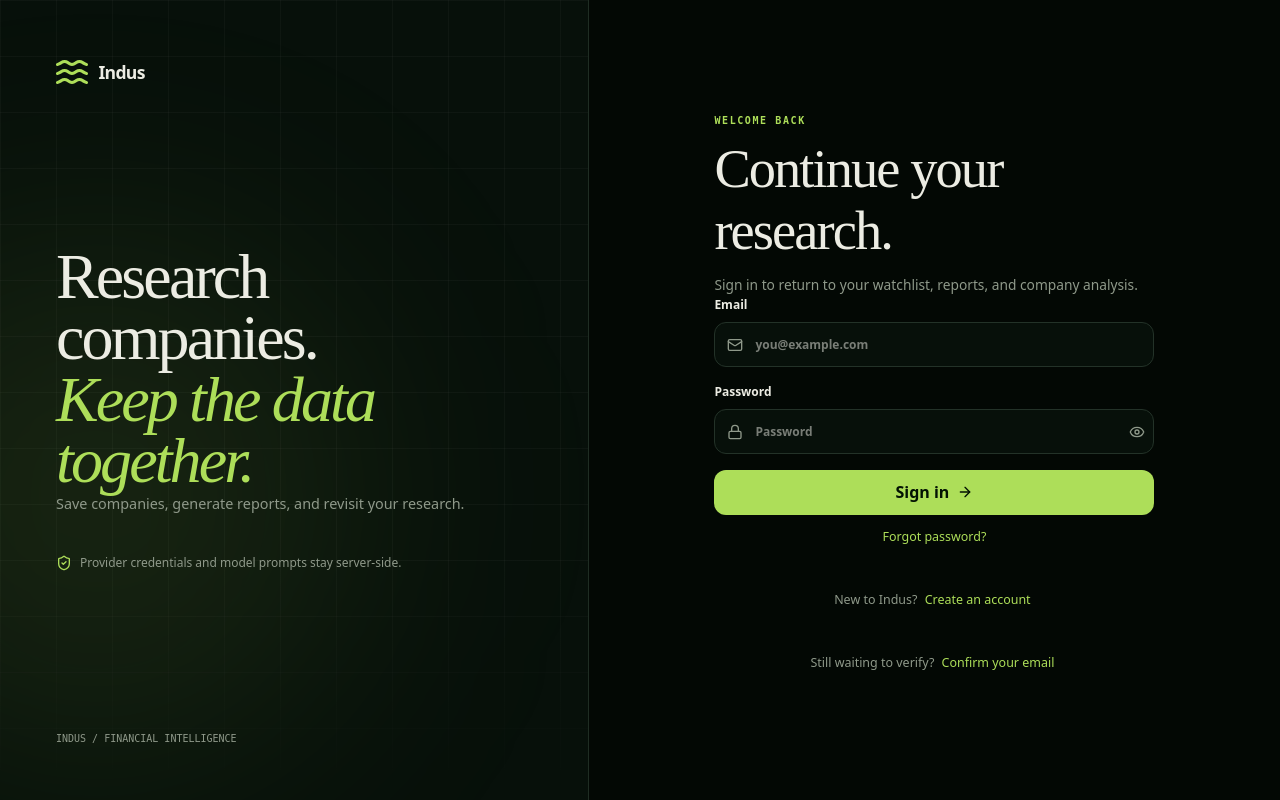
Scenario: application routing › does not render an unexpected provider error on the sign-in surface
The width and height of the screenshot is (1280, 800).
Type "user@example.test" into the field labelled "Email" at (934, 345), box [714, 322, 1154, 367]
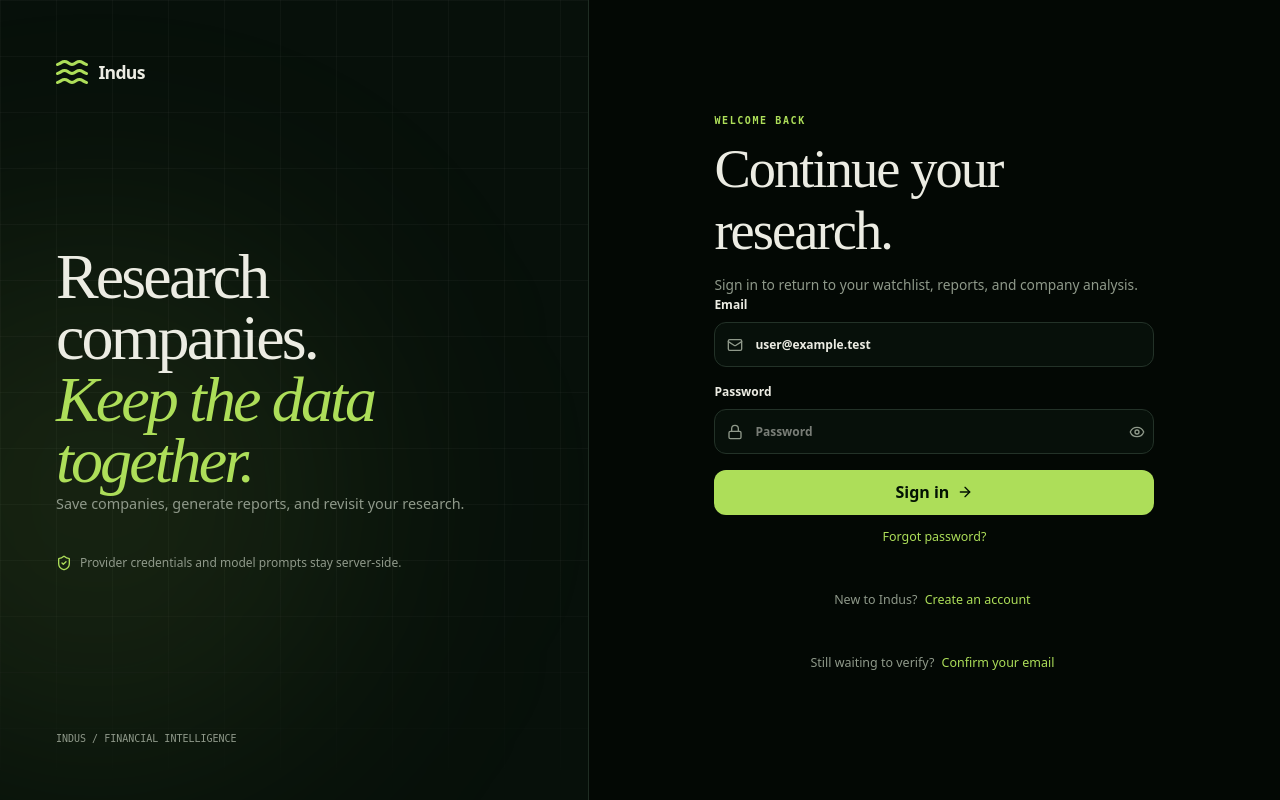
Type "Password123!Secure" into the password field labelled "Password" at (934, 432), box [714, 409, 1154, 454]
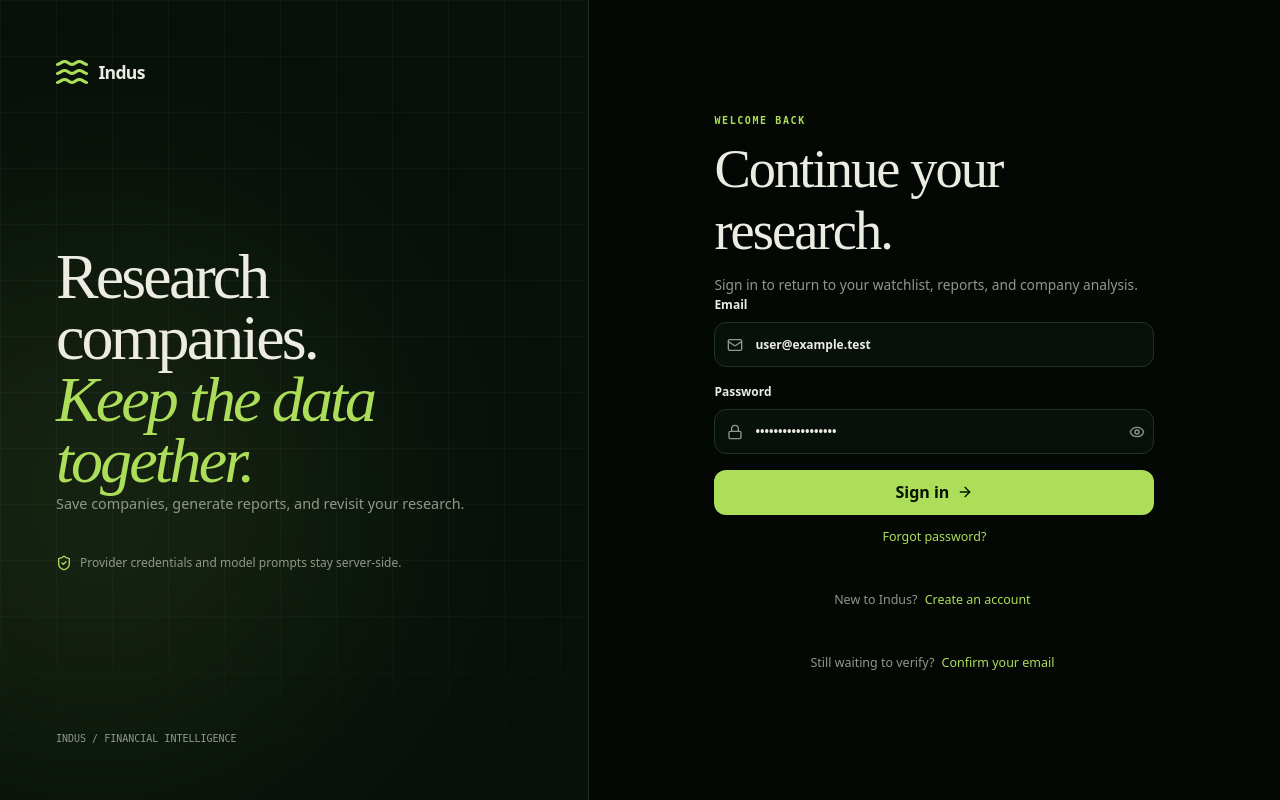
Click the button "Sign in" at (934, 492), box [714, 470, 1154, 515]
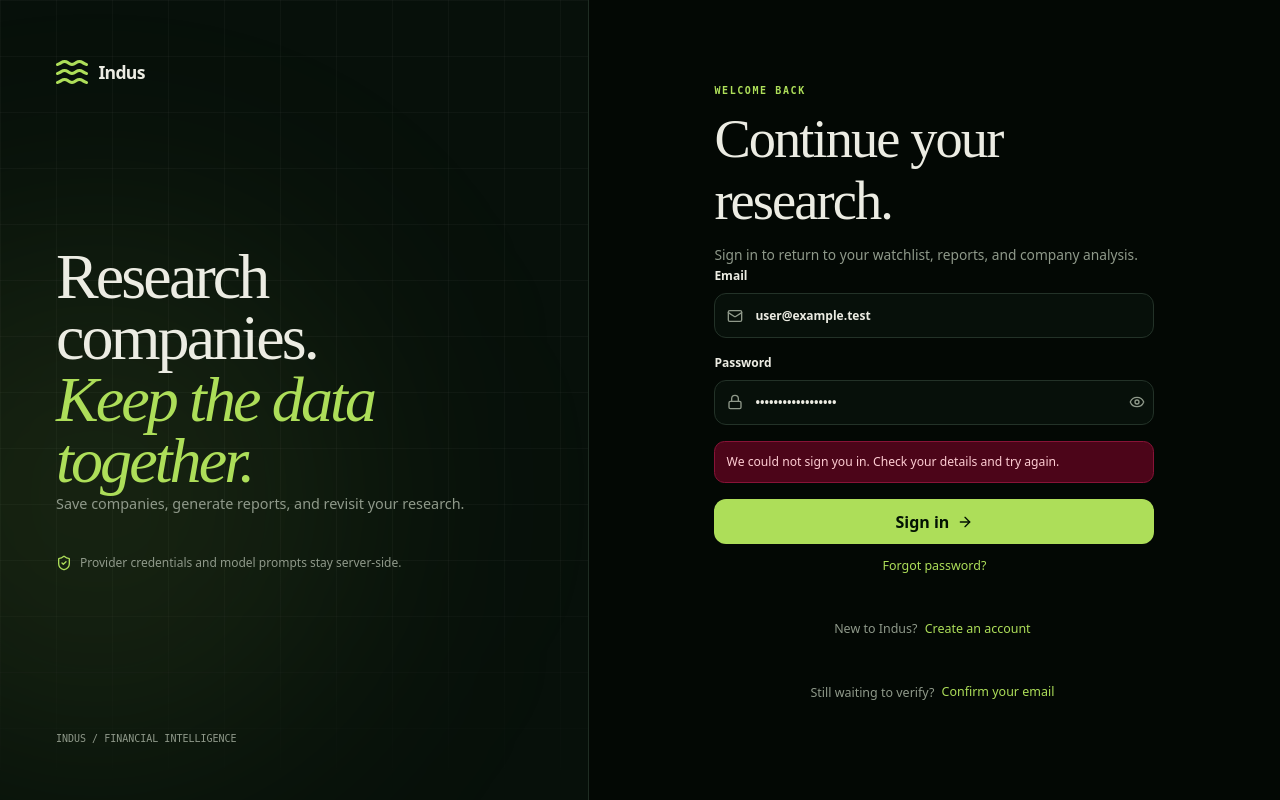
Check: the message shows "We could not sign you in", box [727, 453, 1059, 470]
